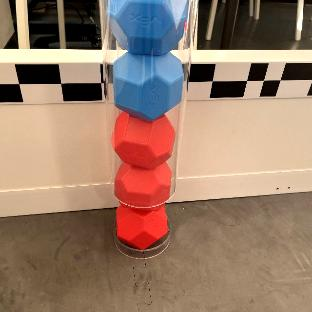V5_BLUE: (113, 51, 183, 118), (107, 0, 186, 54)
V5_RED: (112, 111, 175, 167), (114, 160, 172, 207), (116, 205, 169, 249)
